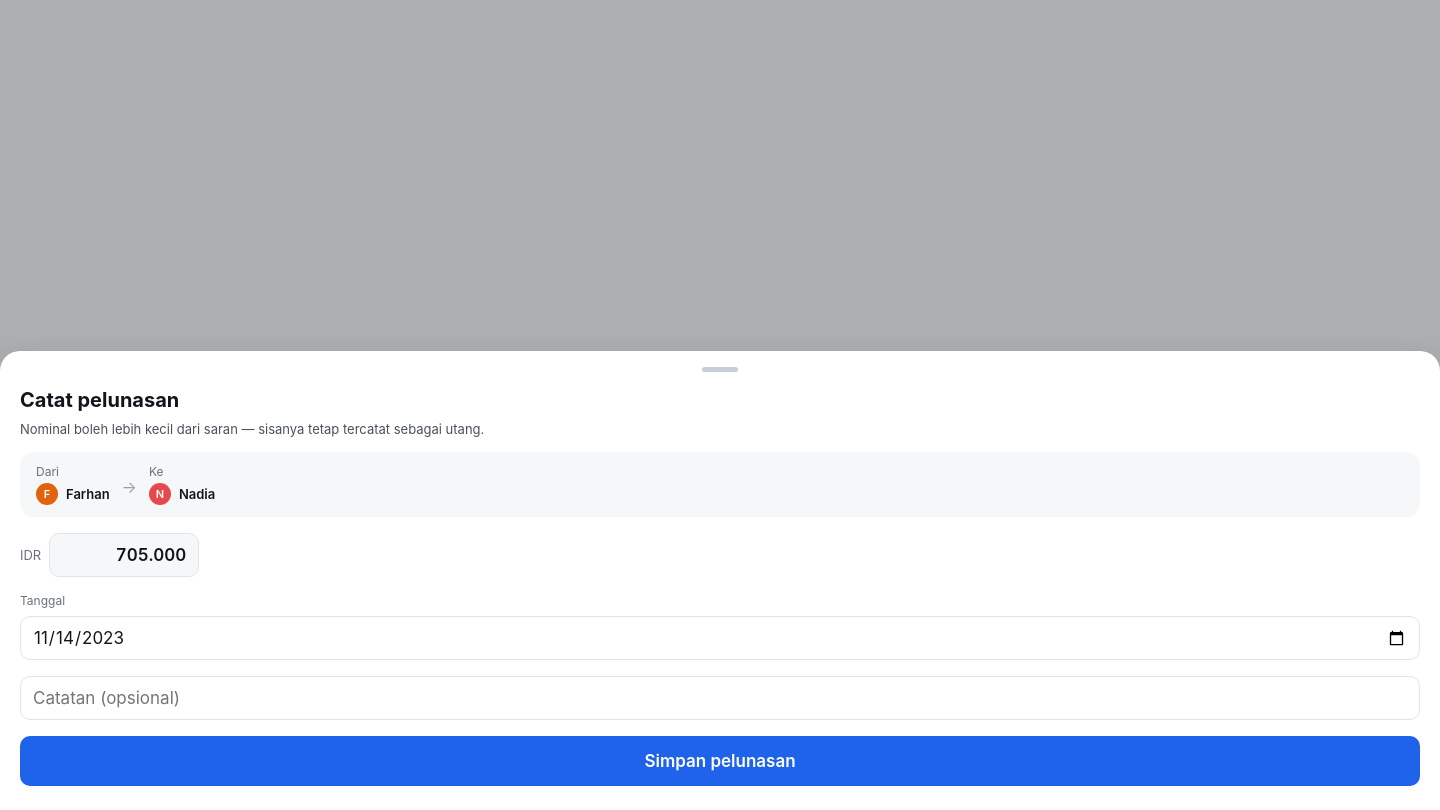
Test: SettleSheet › shows a failure message and keeps the sheet open when saving fails
Click the button "Simpan pelunasan": x=720, y=761 x1=20 y1=736 x2=1420 y2=786
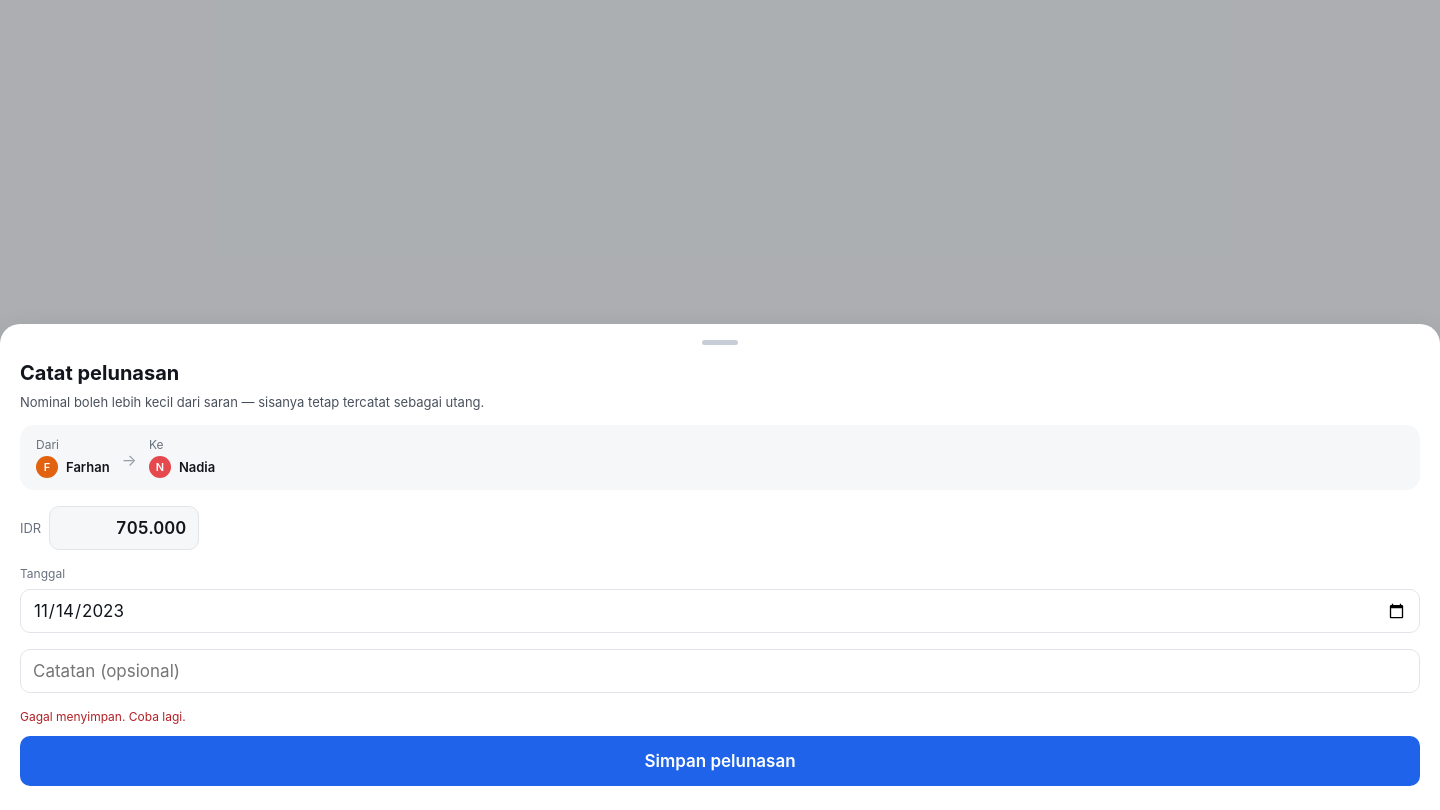
Now the text "Gagal menyimpan. Coba lagi." is shown, box x1=20 y1=709 x2=186 y2=724
